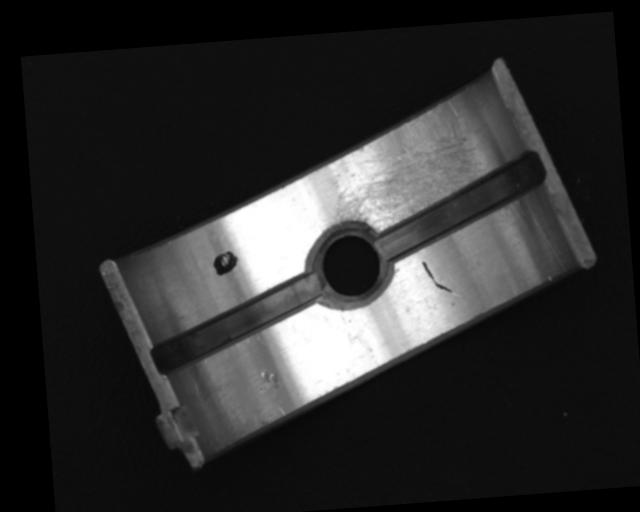blot: (211, 249, 240, 276)
bruise: (255, 367, 283, 396)
gap: (367, 150, 551, 263), (147, 272, 324, 372)
hole: (307, 221, 393, 307)
nick: (421, 256, 453, 295)
scratch: (320, 97, 488, 239)
